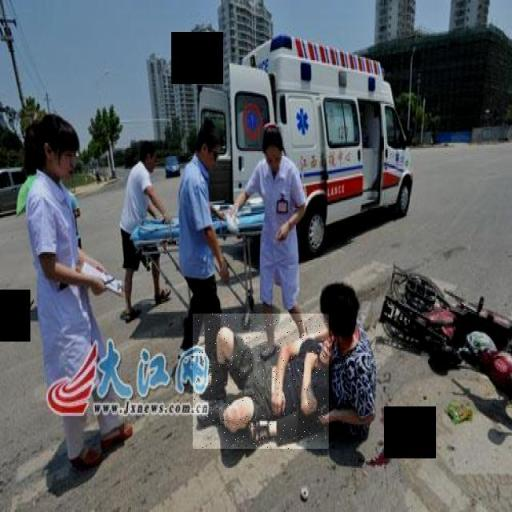Fall: (193, 314, 329, 449)
